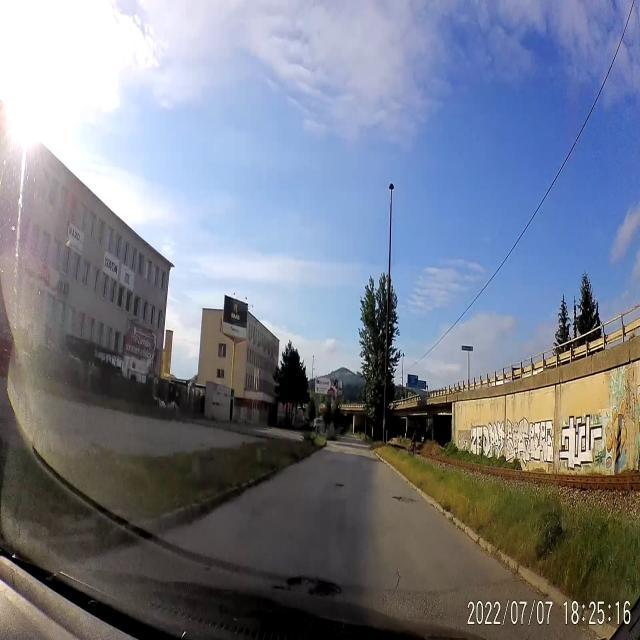Pothole: (305, 572, 342, 600), (286, 570, 305, 592), (394, 564, 402, 589), (393, 496, 416, 504), (272, 580, 286, 592), (334, 480, 346, 490)
